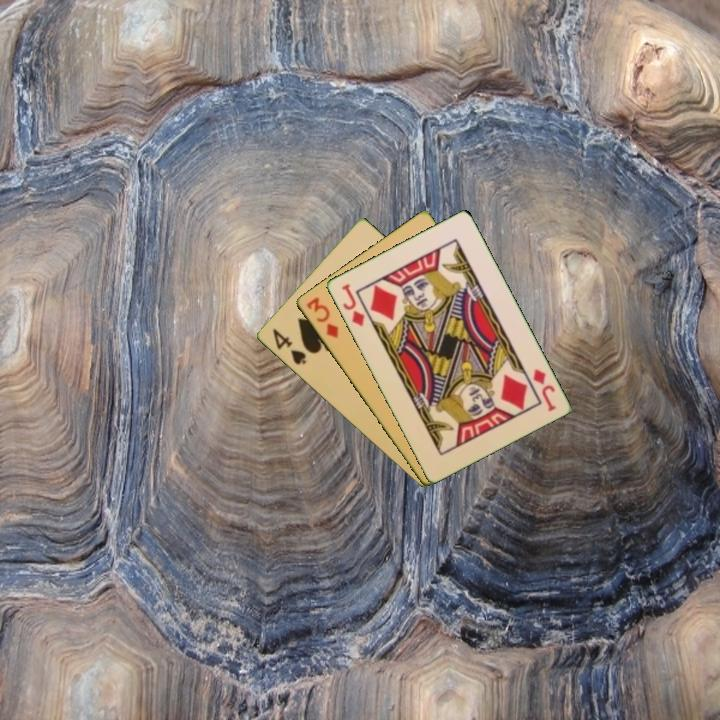3d: (302, 293, 341, 341)
4s: (268, 325, 309, 368)
Jd: (338, 280, 367, 330), (529, 365, 558, 415)
